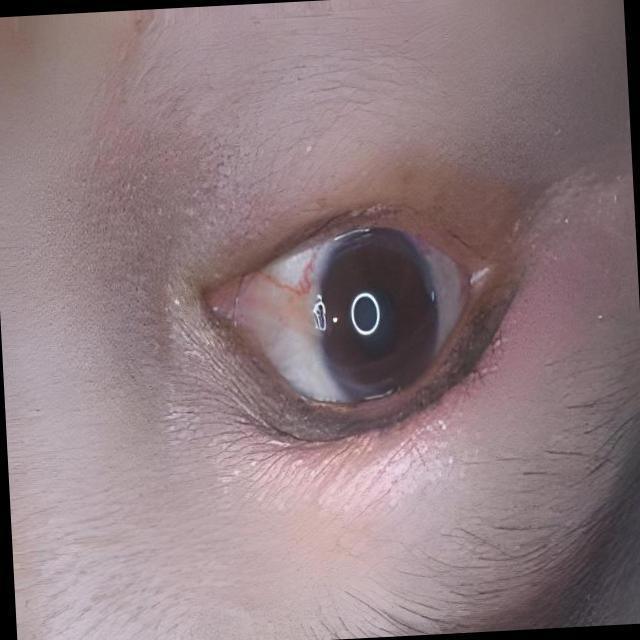Pterygium: (210, 241, 359, 368)
